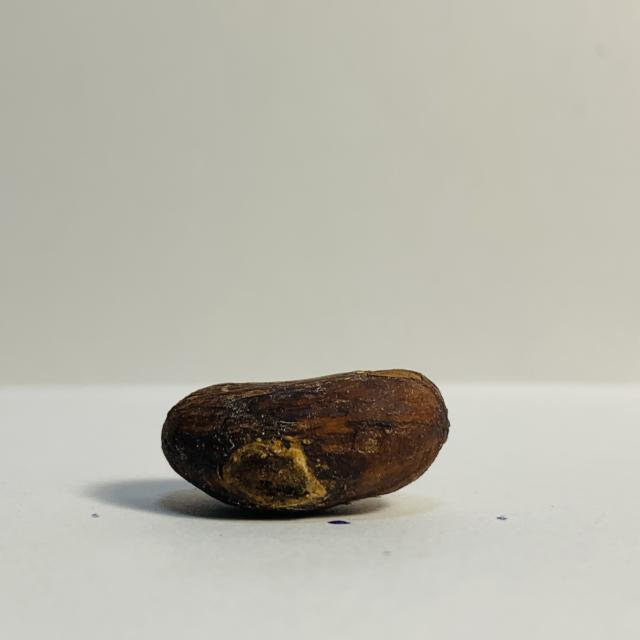Fine_cocoabeans: (59, 341, 518, 554)
